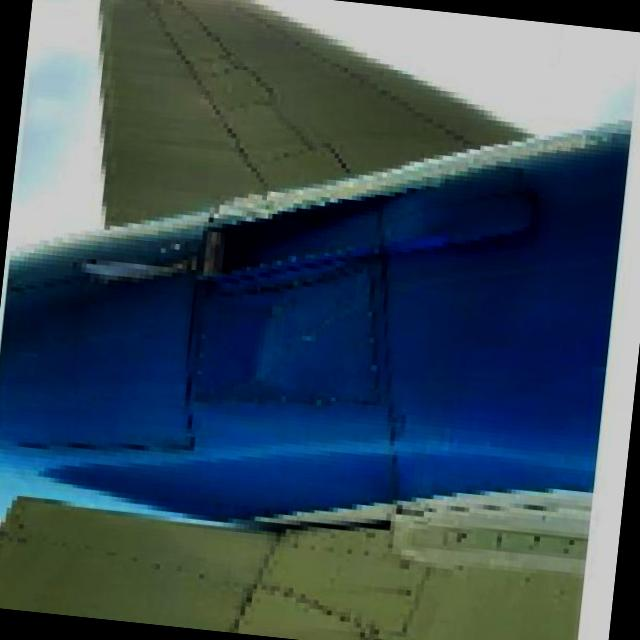dent: (190, 292, 305, 418)
